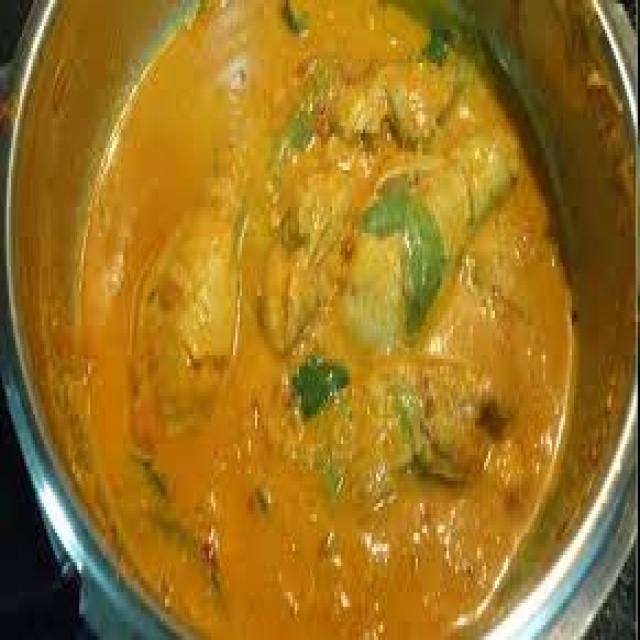Frango: (81, 3, 573, 640)
